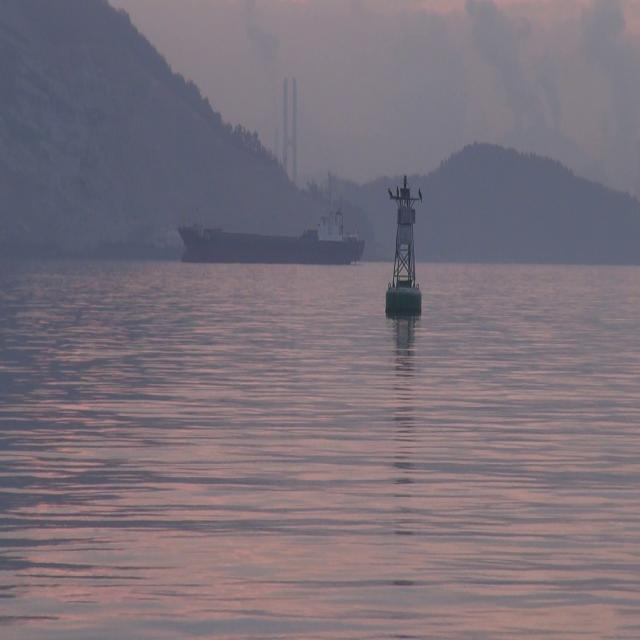ship: (176, 210, 367, 265)
